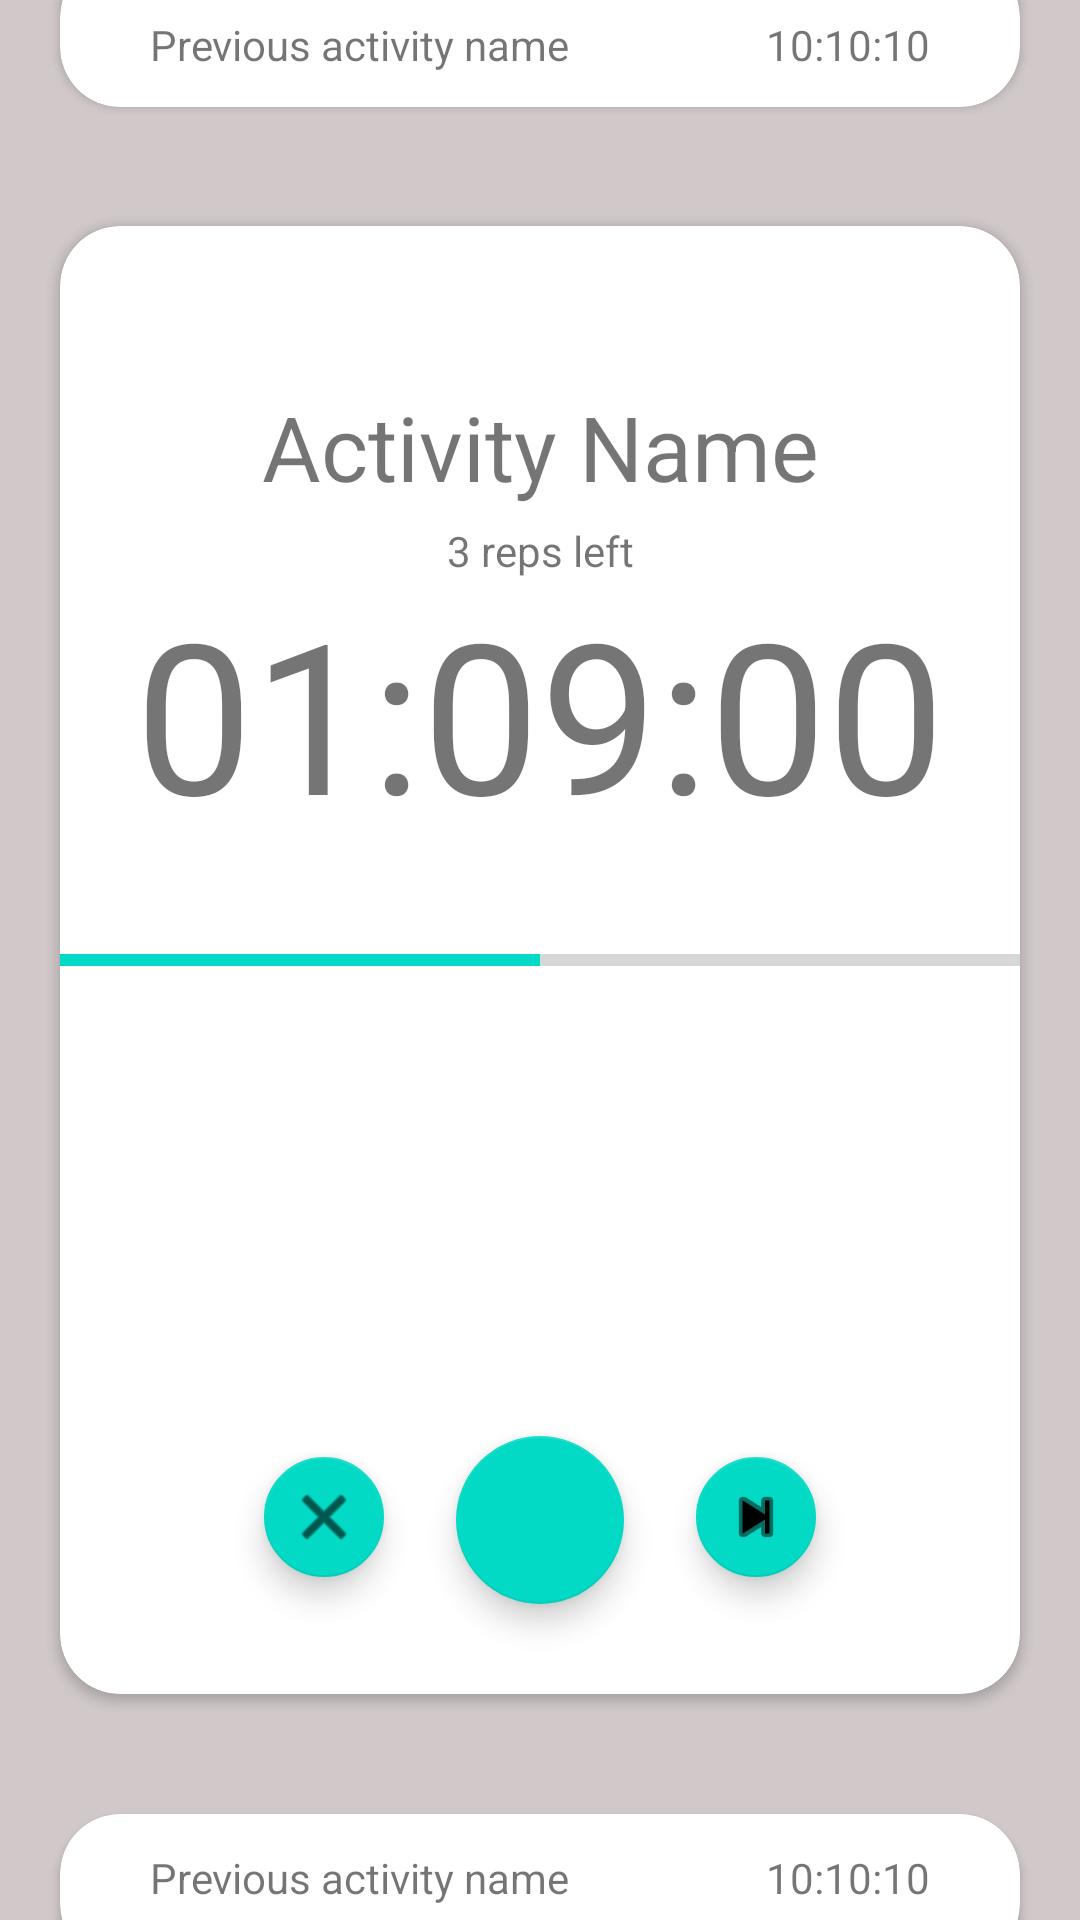

Icons on this 1080 × 1920 Android screen, each with the point to tap as (x=x, y=y):
close clear cancel: (x=323, y=1523)
next: (x=756, y=1523)
